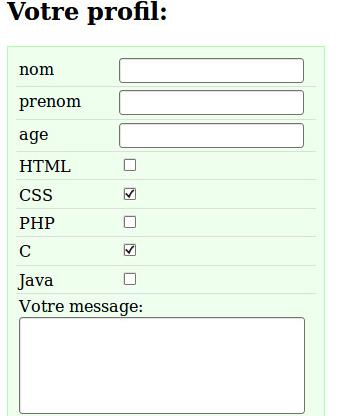checkbox: (122, 270, 138, 287), (122, 187, 141, 201), (120, 242, 136, 257), (121, 215, 138, 229), (123, 157, 137, 172)
checkbox_with_label: (18, 268, 140, 290), (17, 240, 139, 260), (19, 155, 138, 175), (19, 185, 144, 204), (19, 214, 140, 231)
field: (18, 316, 307, 415), (118, 57, 306, 85), (119, 89, 307, 116), (118, 122, 306, 149)
field_with_label: (16, 297, 310, 416), (18, 87, 310, 119), (19, 54, 308, 85), (20, 121, 307, 150)
